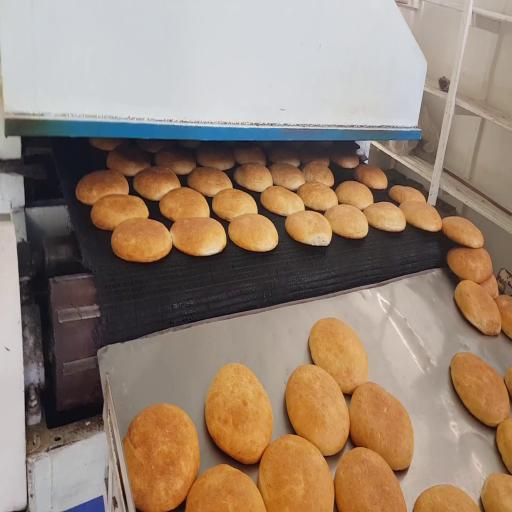bread: (123, 404, 199, 511), (205, 364, 273, 464), (258, 435, 334, 511), (286, 365, 349, 456), (350, 382, 414, 470), (334, 448, 406, 511), (309, 318, 368, 393), (451, 352, 509, 427), (186, 465, 265, 511), (111, 219, 171, 262), (454, 281, 501, 335), (170, 218, 226, 256), (91, 195, 148, 230), (229, 213, 278, 252), (76, 170, 129, 205), (413, 485, 479, 511), (133, 166, 180, 201), (285, 211, 332, 246), (160, 187, 209, 220), (447, 248, 492, 283), (325, 205, 368, 239), (212, 189, 257, 221), (107, 144, 150, 176), (260, 186, 304, 216), (188, 167, 232, 197), (400, 200, 441, 232), (364, 202, 406, 232), (443, 217, 483, 248), (297, 182, 338, 211), (481, 473, 511, 511), (155, 148, 196, 175), (336, 181, 373, 210), (234, 163, 272, 191), (196, 145, 234, 170), (270, 164, 305, 191), (302, 160, 334, 187), (496, 419, 511, 473), (355, 165, 387, 189), (389, 185, 426, 204), (495, 295, 511, 338), (268, 147, 300, 167), (299, 146, 330, 166), (233, 147, 266, 165), (331, 150, 359, 169), (136, 139, 172, 153), (90, 138, 122, 151), (481, 275, 498, 298), (178, 140, 202, 149), (504, 366, 511, 396)
